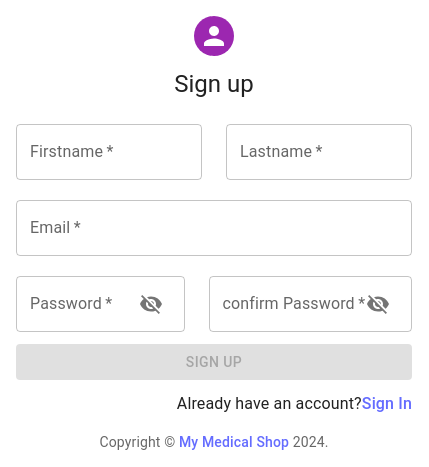
Register › Password visibility for password
Click the button with test id "sign-up-show-password" at (150, 304), box [130,284,170,324]
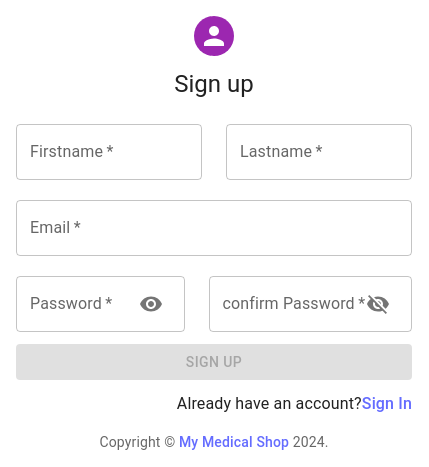
Expected: the icon with test id "VisibilityIcon" is shown, [138,292,162,316]
